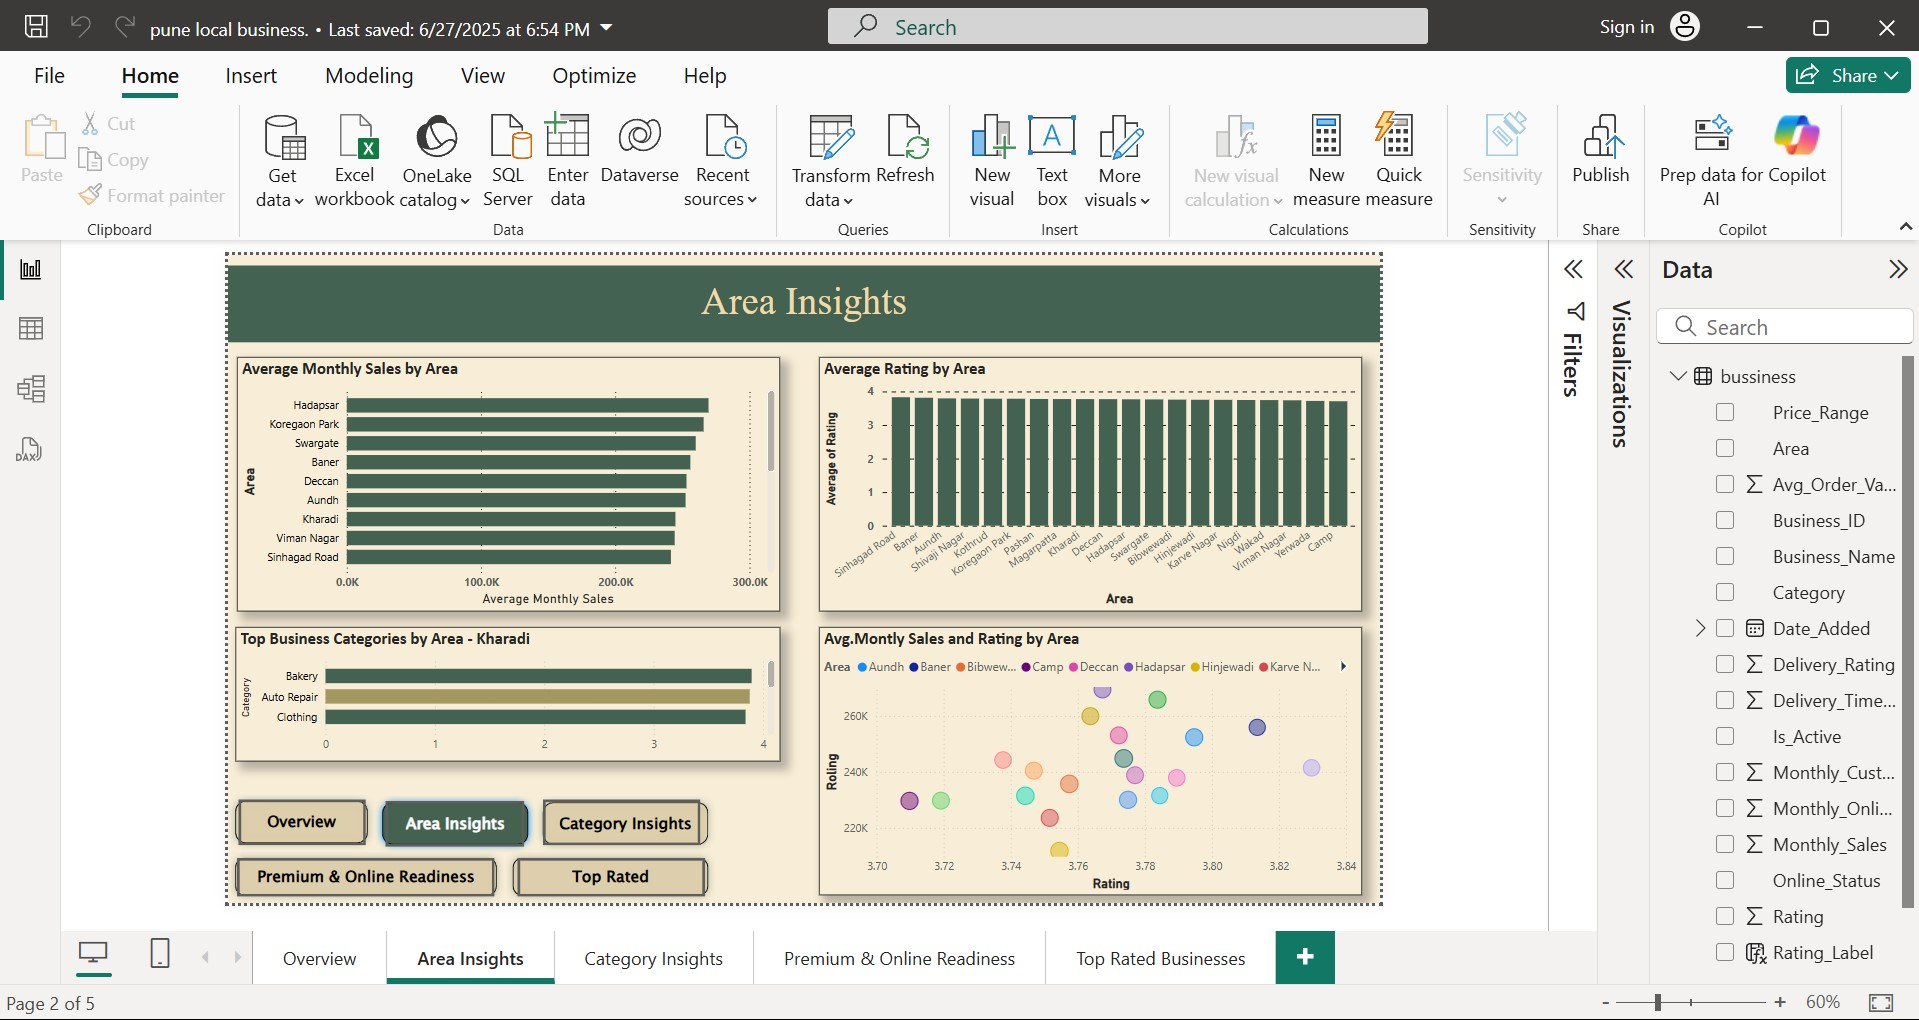

This screenshot's page, from the dashboard's own definition file:
{"tool":"powerbi","page":{"name":"Area Insights","canvas":[1280,720],"ordinal":1},"visuals":[{"type":"shape","box":[341.7,600,200,63.3],"z":0},{"type":"shape","box":[0,661.7,306.7,58.3],"z":1000},{"type":"shape","box":[308.3,661.7,233.3,58.3],"z":2000},{"type":"textbox","box":[0,11.7,1280,85],"z":3000},{"type":"shape","box":[0,598.3,163.3,63.3],"z":4000},{"type":"shape","box":[163.3,600,178.3,63.3],"z":5000},{"type":"actionButton","box":[11.1,604.4,141.6,50.9],"z":6000},{"type":"actionButton","box":[175,606,154.3,50.9],"z":7000},{"type":"actionButton","box":[349.9,604.4,175,50.9],"z":8000},{"type":"actionButton","box":[9.5,669.6,286.3,42.9],"z":9000},{"type":"actionButton","box":[321.3,669.6,208.4,42.9],"z":10000},{"type":"clusteredColumnChart","title":"Average Rating by Area","fields":{"Category":["bussiness.Area"],"Y":["Avg(bussiness.Rating)"]},"box":[656.1,114,603.5,282.5],"z":11000},{"type":"barChart","title":"Average Monthly Sales by Area","fields":{"Category":["bussiness.Area"],"Y":["Avg(bussiness.Monthly_Sales)"]},"box":[10.5,114,603.5,282.5],"z":12000},{"type":"clusteredBarChart","title":"Top Business Categories by Area - Kharadi","fields":{"Category":["bussiness.Category"],"Y":["Avg(bussiness.Rating)"]},"box":[8.8,414,605.3,149.1],"z":13000},{"type":"scatterChart","title":"Avg.Montly Sales and Rating by Area","fields":{"X":["Avg(bussiness.Rating)"],"Y":["Avg(bussiness.Monthly_Sales)"],"Series":["bussiness.Area"],"Size":["CountNonNull(bussiness.Business_ID)"]},"box":[656.1,414,603.5,298.2],"z":14000}]}

Visuals, with their boxes on the page's 1280x720 design canvas (x1, y1, x2, y2). These are canvas units, not pixel positions in the 1919x1020 screenshot, which may show the page scaled, cropped or inside an application window:
shape: crop(342, 600, 542, 663)
shape: crop(0, 662, 307, 720)
shape: crop(308, 662, 542, 720)
textbox: crop(0, 12, 1280, 97)
shape: crop(0, 598, 163, 662)
shape: crop(163, 600, 342, 663)
actionButton: crop(11, 604, 153, 655)
actionButton: crop(175, 606, 329, 657)
actionButton: crop(350, 604, 525, 655)
actionButton: crop(10, 670, 296, 712)
actionButton: crop(321, 670, 530, 712)
"Average Rating by Area" clusteredColumnChart: crop(656, 114, 1260, 396)
"Average Monthly Sales by Area" barChart: crop(10, 114, 614, 396)
"Top Business Categories by Area - Kharadi" clusteredBarChart: crop(9, 414, 614, 563)
"Avg.Montly Sales and Rating by Area" scatterChart: crop(656, 414, 1260, 712)
